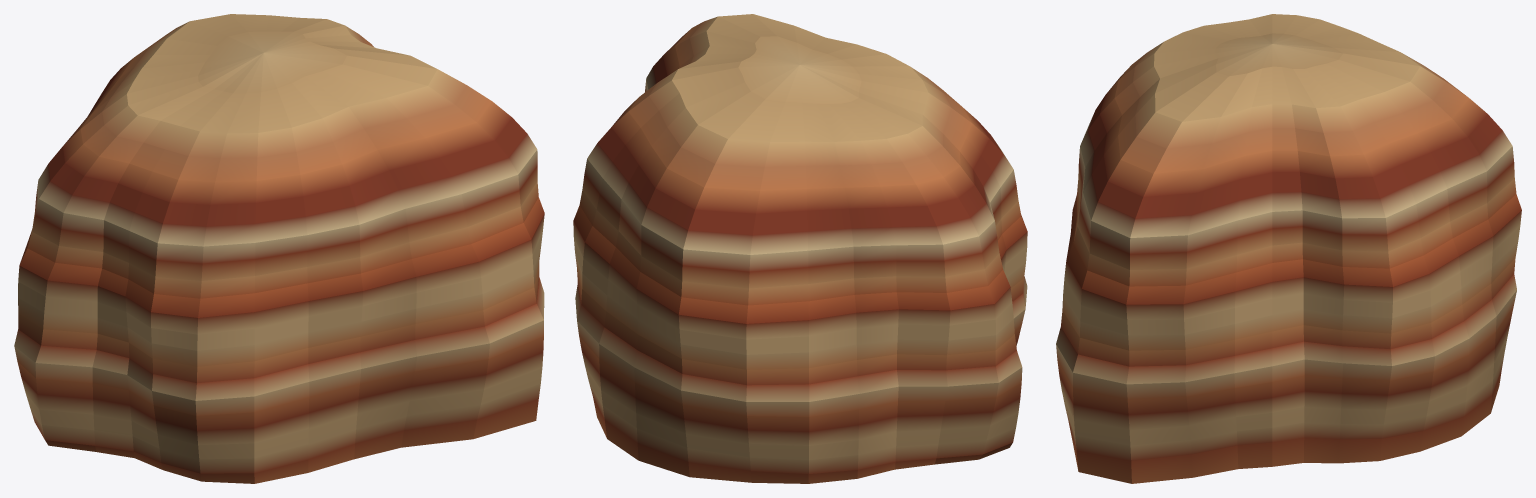
File: boulder_a.glb
3 views of the same model, side by side, from view 1: azimuth 30°, elevation 25°; view 2: azimuth 150°, elevation 25°; view 3: azimuth 270°, elevation 25° (orthographic). The views are drawn at different scales.
Parts seen in each view (by area): view 1: boulder_a; view 2: boulder_a; view 3: boulder_a.
Boxes of the visible parts, box(x1,y1,x2,y2) form: boulder_a: box(14, 14, 544, 483); boulder_a: box(573, 14, 1027, 483); boulder_a: box(1056, 14, 1521, 483).
Bounding box in the file's own units: 3.2 × 2.38 × 2.93.
